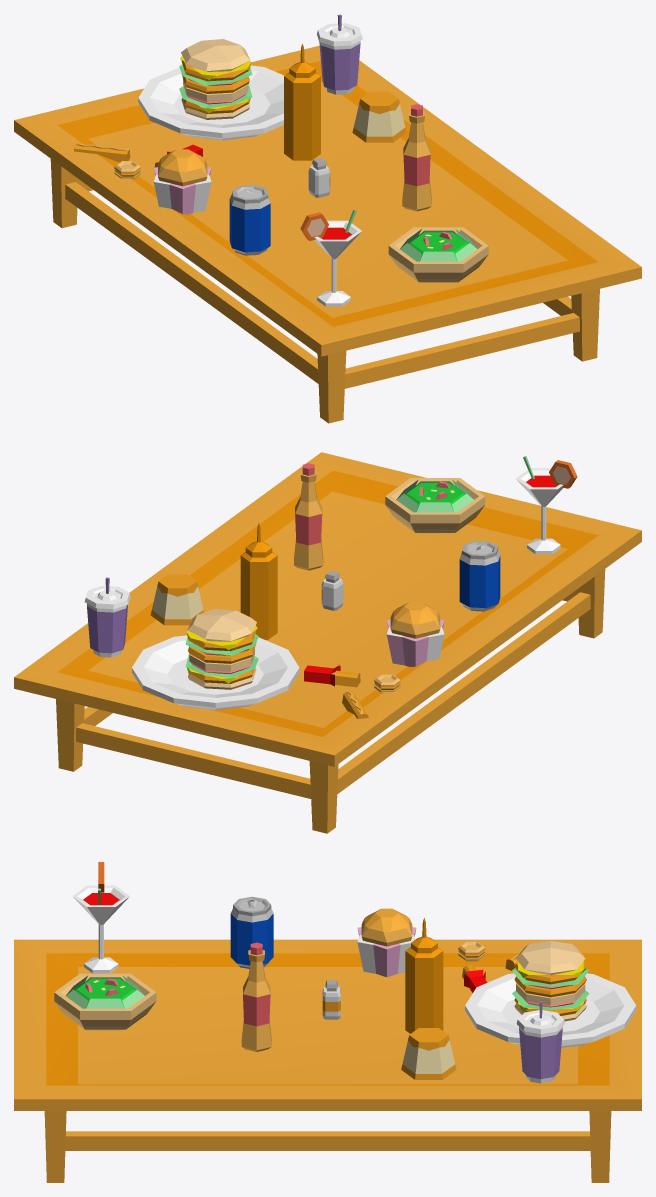
Rendered from SalaEstarObjetos02.fbx.
3 renders of one model, top to bottom at view 1: azimuth 30°, elevation 25°; view 2: azimuth 150°, elevation 25°; view 3: azimuth 270°, elevation 25°, orthographic. The views are drawn at different scales.
Visible parts, largest first — view 1: SalaEstarObjetos02; view 2: SalaEstarObjetos02; view 3: SalaEstarObjetos02.
Boxes of the visible parts, x1=… form: SalaEstarObjetos02: x1=14, y1=14, x2=641, y2=423; SalaEstarObjetos02: x1=14, y1=452, x2=641, y2=833; SalaEstarObjetos02: x1=14, y1=862, x2=641, y2=1182.
Size of the model in its own units: 98.45 by 60.61 by 164.
